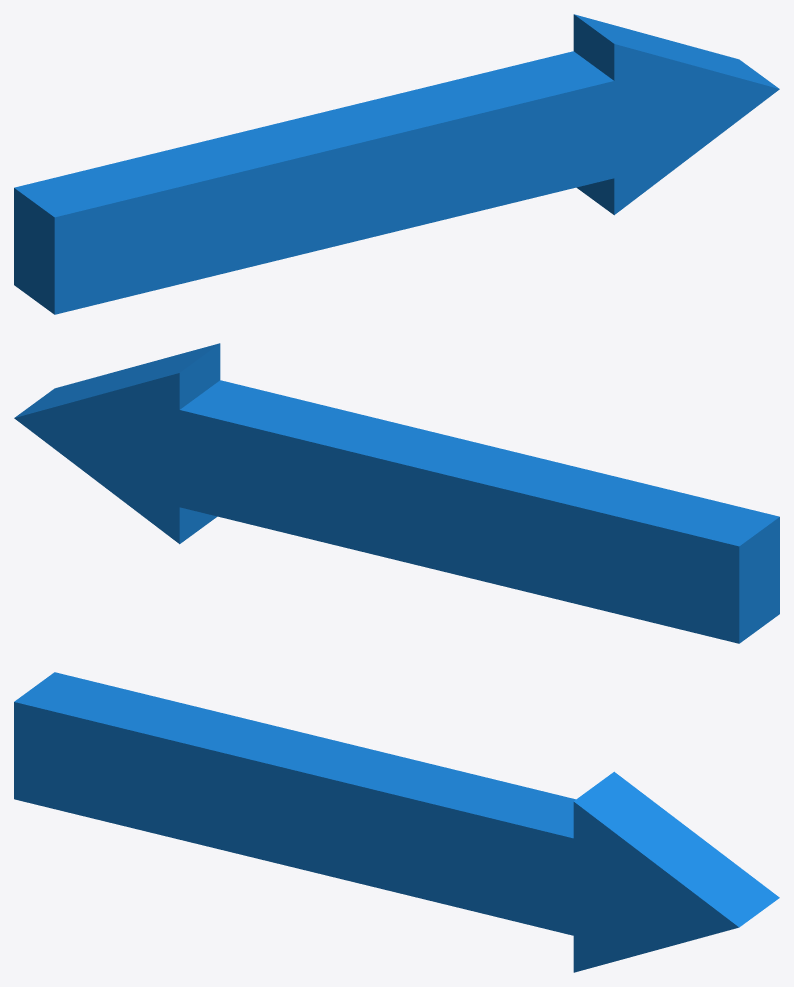
The model's file is arrow_right.glb.
3 renders of one model, top to bottom at view 1: azimuth 30°, elevation 25°; view 2: azimuth 150°, elevation 25°; view 3: azimuth 330°, elevation 25°, orthographic.
Visible parts, largest first — view 1: Object_8; view 2: Object_8; view 3: Object_8.
Part boxes in pixels (x1,y1,x2,y2): Object_8: [14, 14, 779, 314]; Object_8: [14, 343, 779, 643]; Object_8: [14, 672, 779, 972].
Size of the model in its own units: 0.5508 by 0.1244 by 0.0535.
